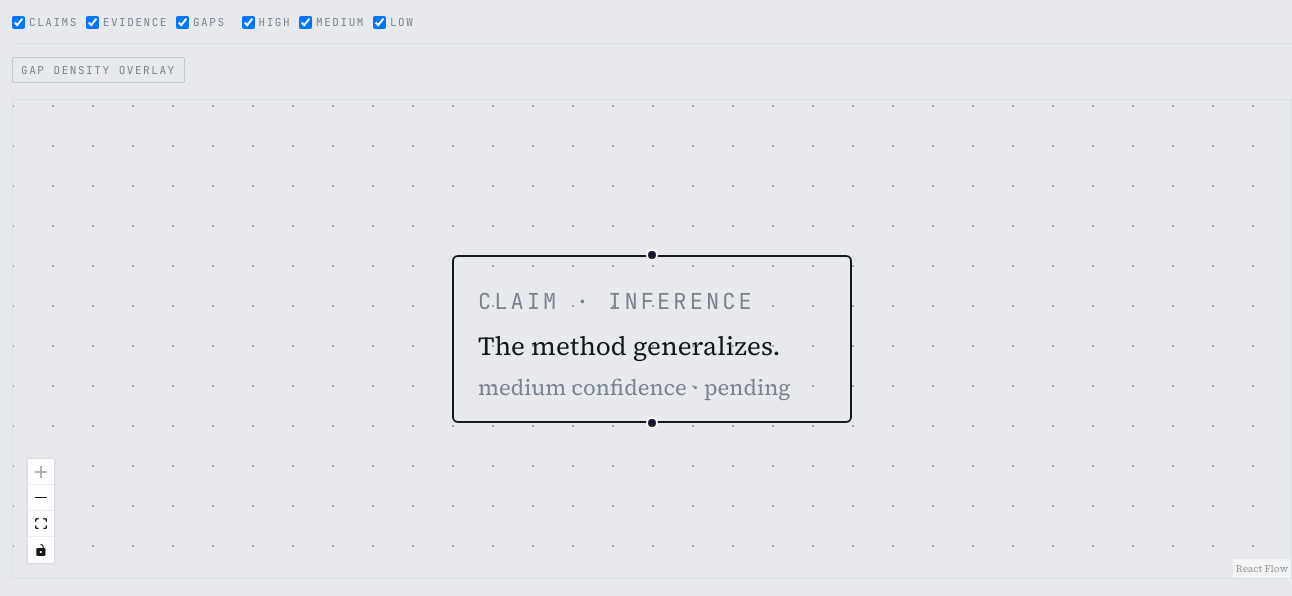
Test: ClaimEvidenceGraph › opens the inspector drawer with the clicked node's detail
What coordinates should you click on to do the following:
click the text "The method generalizes."
I would click on:
 (652, 347)
Its box is [478,329,826,365].
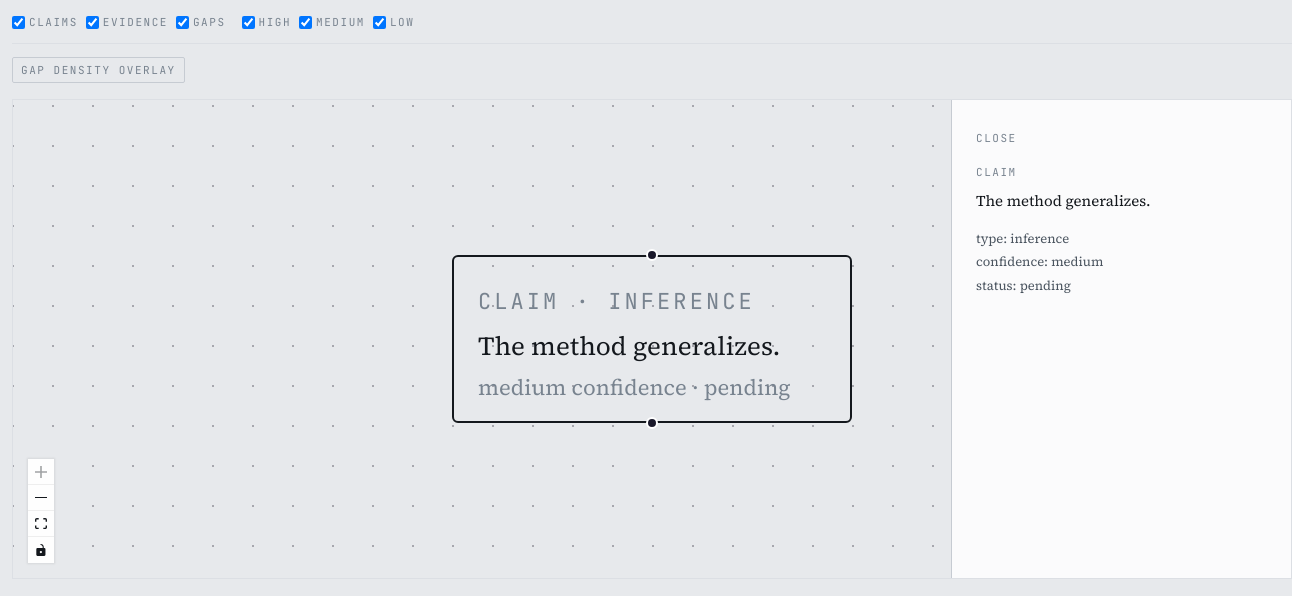
Expected: the text "The method generalizes." is shown 2 times, [478,329,826,365]; [976,190,1150,210]
Result: the text "confidence: medium" is shown at [976,253,1103,270]
